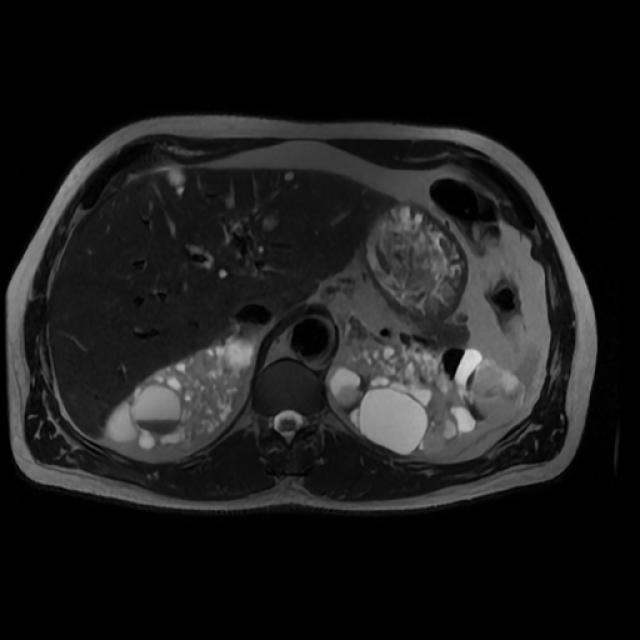sag: (105, 333, 259, 450)
sol: (328, 345, 524, 455)
